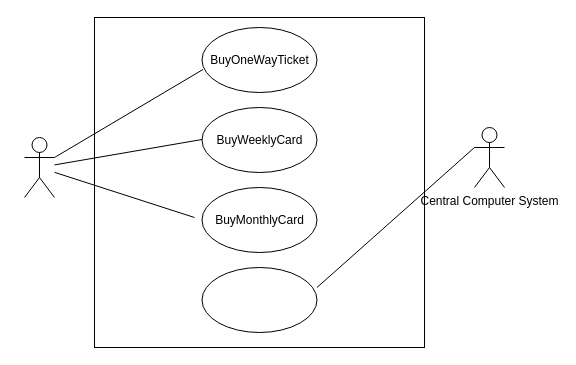
This 576x365 diagram has some shape labels left out. The shapes that lost their labels are listed below. From the top down, each one's box as (x1, y1, x2, y2) in pixels, then its label:
(24, 136, 54, 198): Traveler
(201, 266, 317, 332): UpdateTariff
